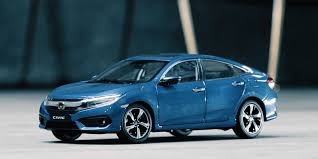Honda: (39, 48, 278, 141)
